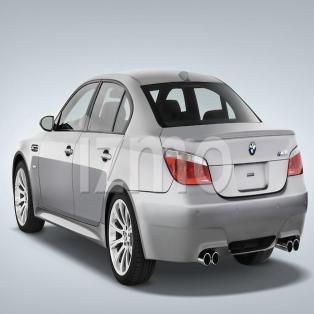Auto: (12, 70, 308, 286)
